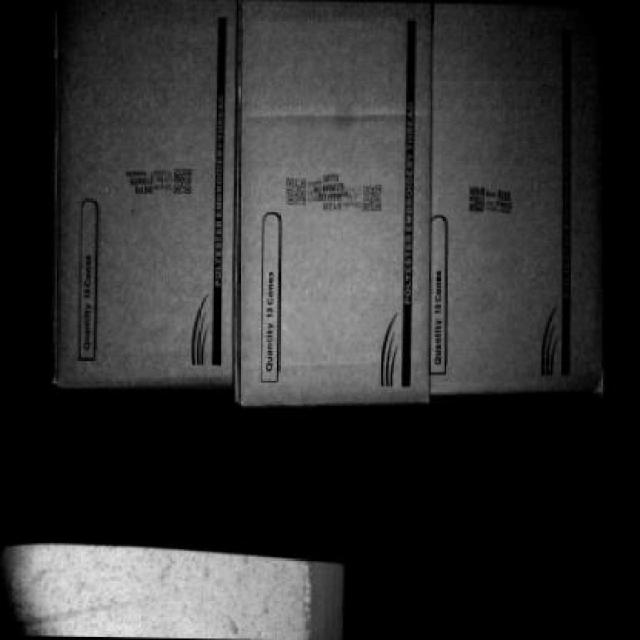cardboxes: (235, 8, 436, 408), (46, 0, 242, 383), (432, 10, 618, 398)
